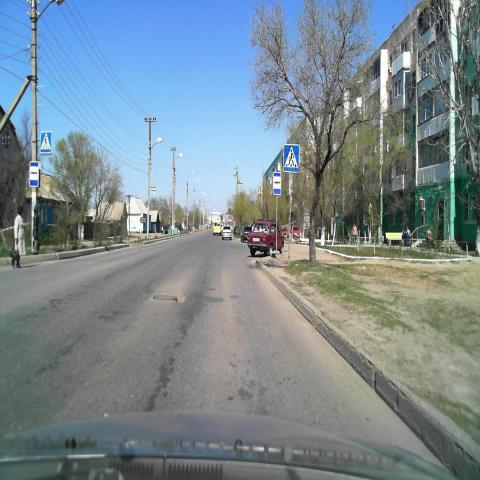5_16: (28, 160, 40, 188), (273, 171, 281, 194)
5_19_1: (284, 145, 300, 173), (40, 131, 52, 153)
